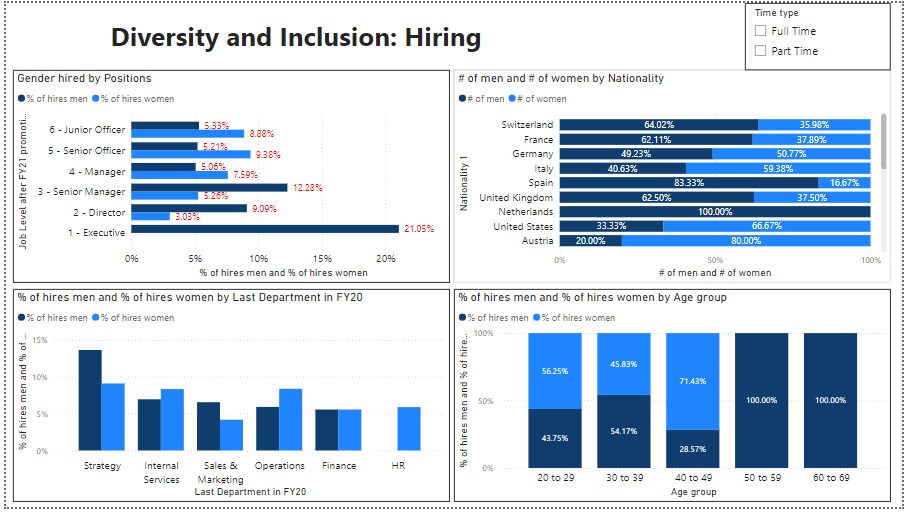

The page's visual inventory and layout, read from the dashboard file:
{"tool":"powerbi","page":{"name":"Hiring","canvas":[1280,720],"ordinal":0},"visuals":[{"type":"hundredPercentStackedColumnChart","fields":{"Category":["Pharma Group AG.Age group"],"Y":["Pharma Group AG.% of hires men","Pharma Group AG.% of hires women"]},"box":[640,408,624,304],"z":0},{"type":"hundredPercentStackedBarChart","title":"# of men and # of women by Nationality ","fields":{"Category":["Pharma Group AG.Nationality 1"],"Y":["Pharma Group AG.# of men","Pharma Group AG.# of women"]},"box":[640,96,624,304],"z":1000},{"type":"lineClusteredColumnComboChart","fields":{"Category":["Pharma Group AG.Last Department in FY20"],"Y":["Pharma Group AG.% of hires men","Pharma Group AG.% of hires women"]},"box":[10,408,624,304],"z":2000},{"type":"slicer","fields":{"Values":["Pharma Group AG.Time type"]},"box":[1056,0,208,96],"z":3000},{"type":"clusteredBarChart","title":"Gender hired by Positions","fields":{"Category":["Pharma Group AG.Job Level after FY21 promotions"],"Y":["Pharma Group AG.% of hires men","Pharma Group AG.% of hires women"]},"box":[10,95,624,304],"z":4000},{"type":"textbox","box":[144,16,560,64],"z":6000}]}

Visuals, with their boxes in screenshot pixels (x1, y1, x2, y2), scaled from the page's 1280x720 canvas onto the 908x514 screenshot:
hundredPercentStackedColumnChart - Pharma Group AG.Age group x Pharma Group AG.% of hires men: Rect(454, 291, 897, 508)
"# of men and # of women by Nationality " hundredPercentStackedBarChart: Rect(454, 69, 897, 286)
lineClusteredColumnComboChart - Pharma Group AG.Last Department in FY20 x Pharma Group AG.% of hires men: Rect(7, 291, 450, 508)
slicer - Pharma Group AG.Time type: Rect(749, 0, 897, 69)
"Gender hired by Positions" clusteredBarChart: Rect(7, 68, 450, 285)
textbox: Rect(102, 11, 499, 57)
